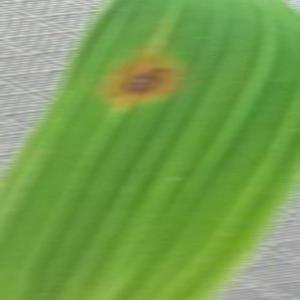Brown_Spot: (99, 46, 190, 116)
